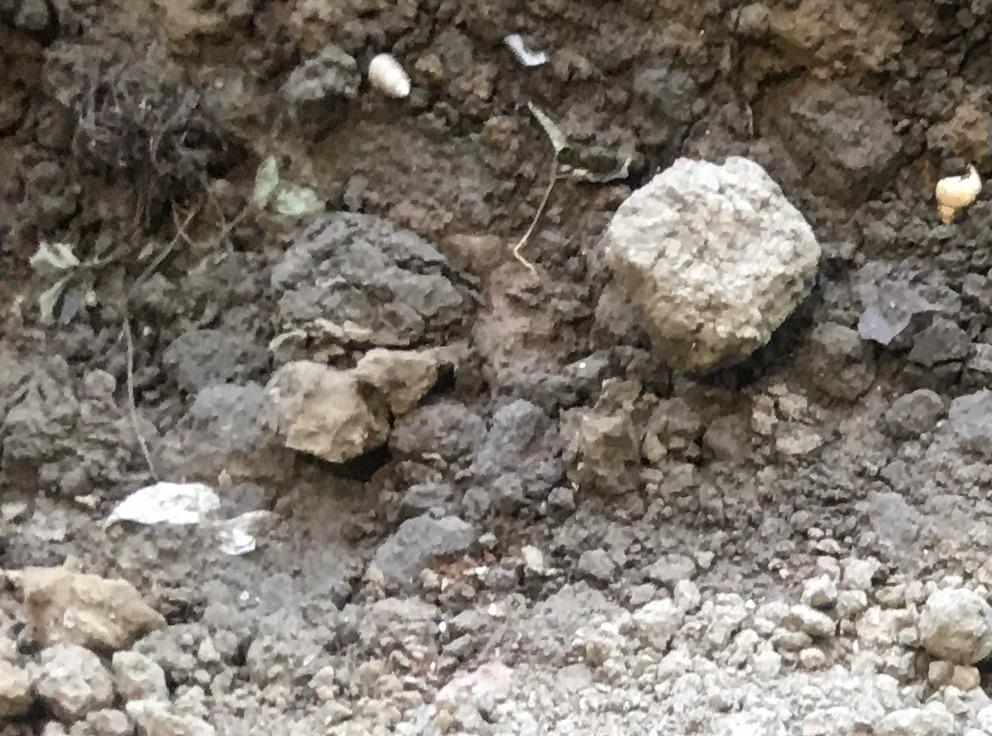block: (605, 147, 819, 385), (265, 212, 455, 344), (268, 349, 438, 456)
